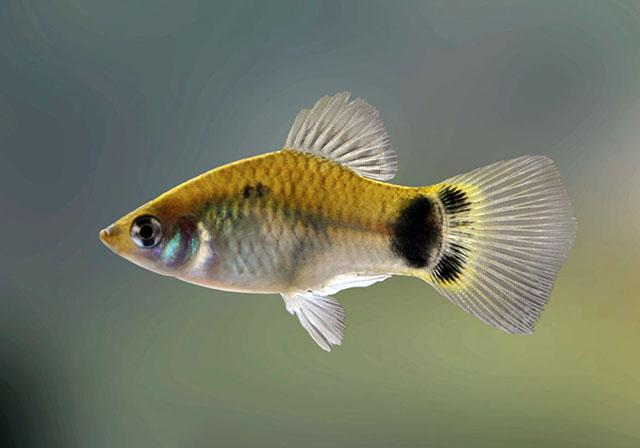Mulut: (80, 204, 138, 294)
Sirip Ekor: (430, 138, 582, 348)
Sirip Perut: (277, 276, 355, 368)
Sirip Punggung: (276, 81, 402, 194)
